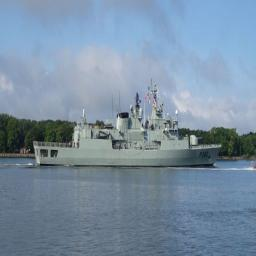Fragata: (33, 78, 223, 170)
